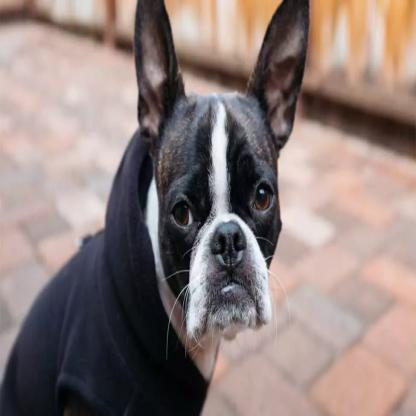Boston Terrier: (95, 0, 314, 405)
